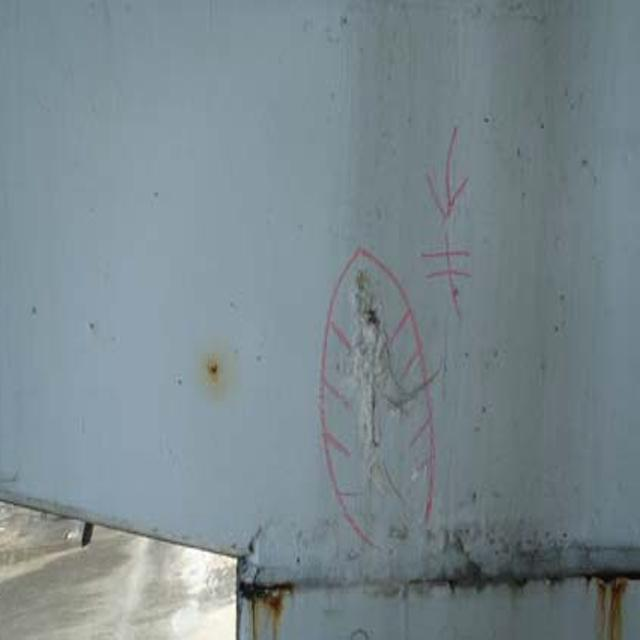freelime: (344, 272, 399, 507)
